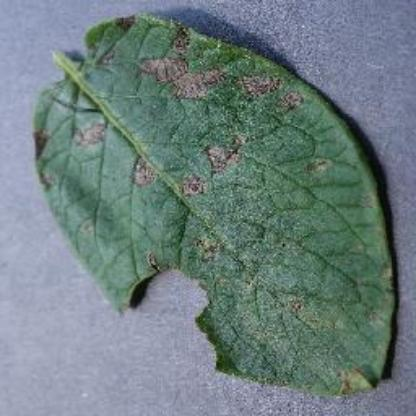Early-Blight: (28, 13, 394, 392)
